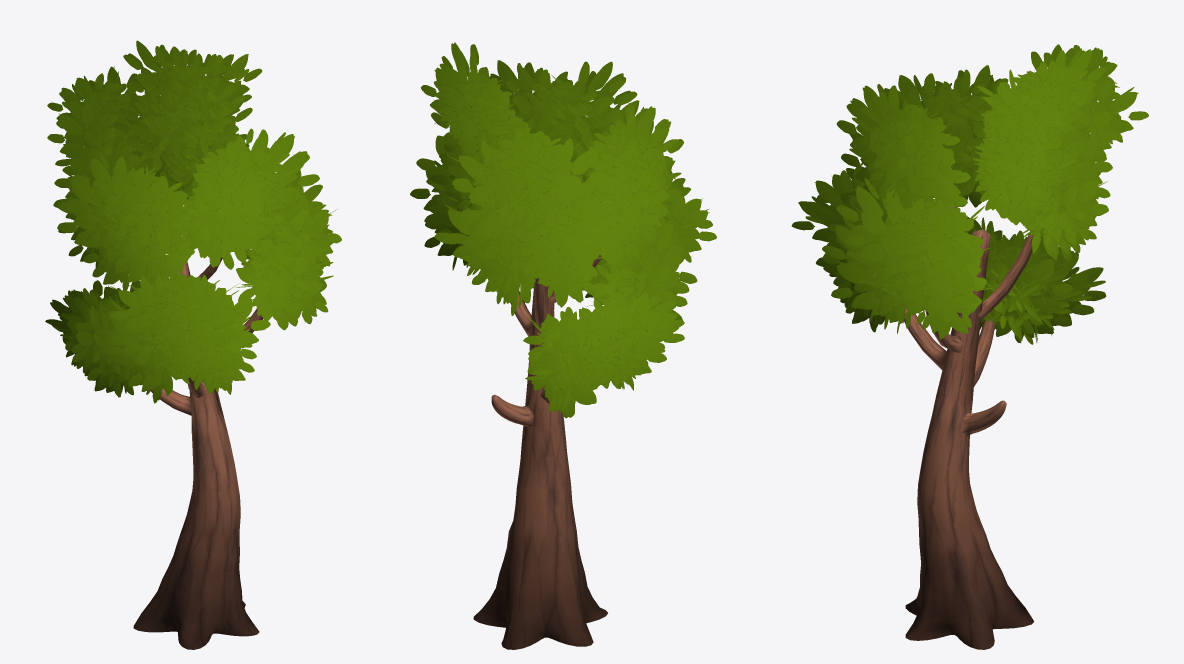
File: CommonTree_5.gltf
3 views of the same model, side by side, from view 1: azimuth 30°, elevation 25°; view 2: azimuth 150°, elevation 25°; view 3: azimuth 270°, elevation 25° (orthographic). The views are drawn at different scales.
Parts seen in each view (by area): view 1: CommonTree_5; view 2: CommonTree_5; view 3: CommonTree_5.
Part boxes in pixels (x1,y1,x2,y2): CommonTree_5: [45, 40, 341, 649]; CommonTree_5: [410, 42, 716, 649]; CommonTree_5: [791, 44, 1148, 649].
Size of the model in its own units: 3.67 by 7.01 by 4.22.
Materials: 2 (2 with a texture image).
